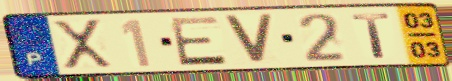1: (120, 18, 152, 68)
2: (296, 11, 347, 64)
E: (167, 15, 231, 68)
T: (349, 11, 394, 60)
V: (220, 13, 277, 66)
X: (49, 17, 116, 72)
